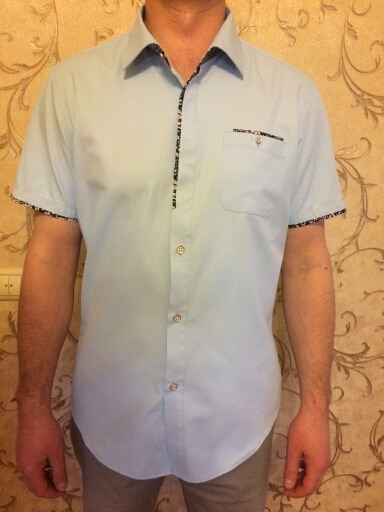shirts: (29, 22, 343, 479)
